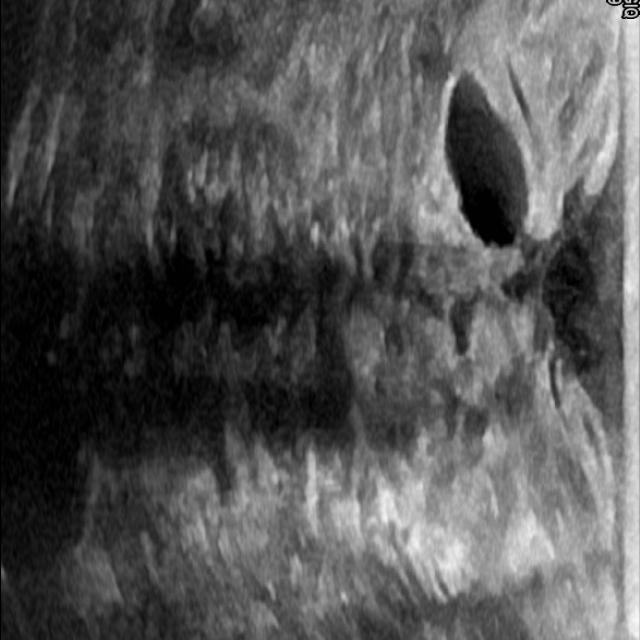Benign: (440, 90, 529, 256)
